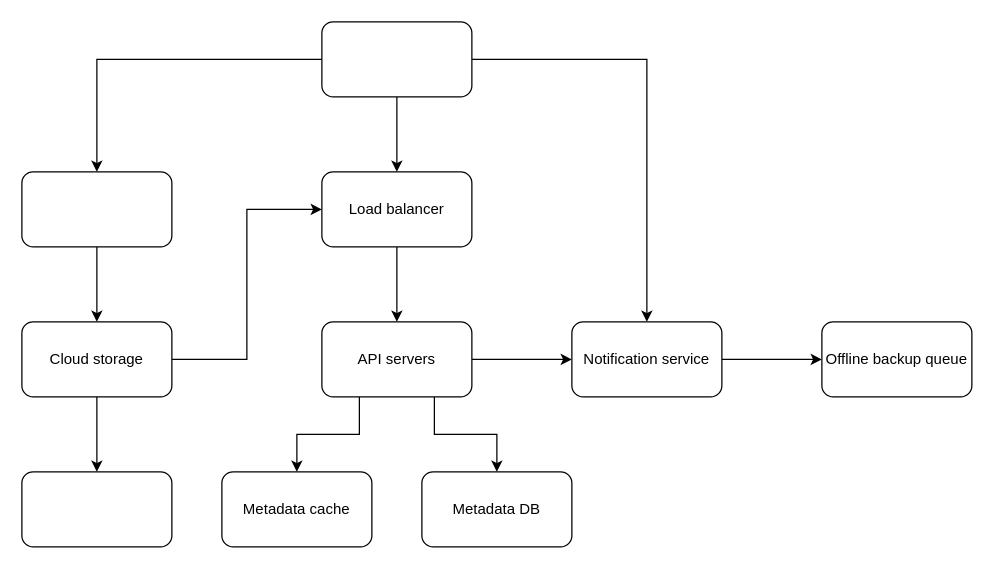
Image size: 994x569. Some labels were removed from this diagram. Each missing label, with the centre of its shape:
"Block servers" belongs at point 96,209.
"Cold storage" belongs at point 96,509.
"User" belongs at point 396,59.
